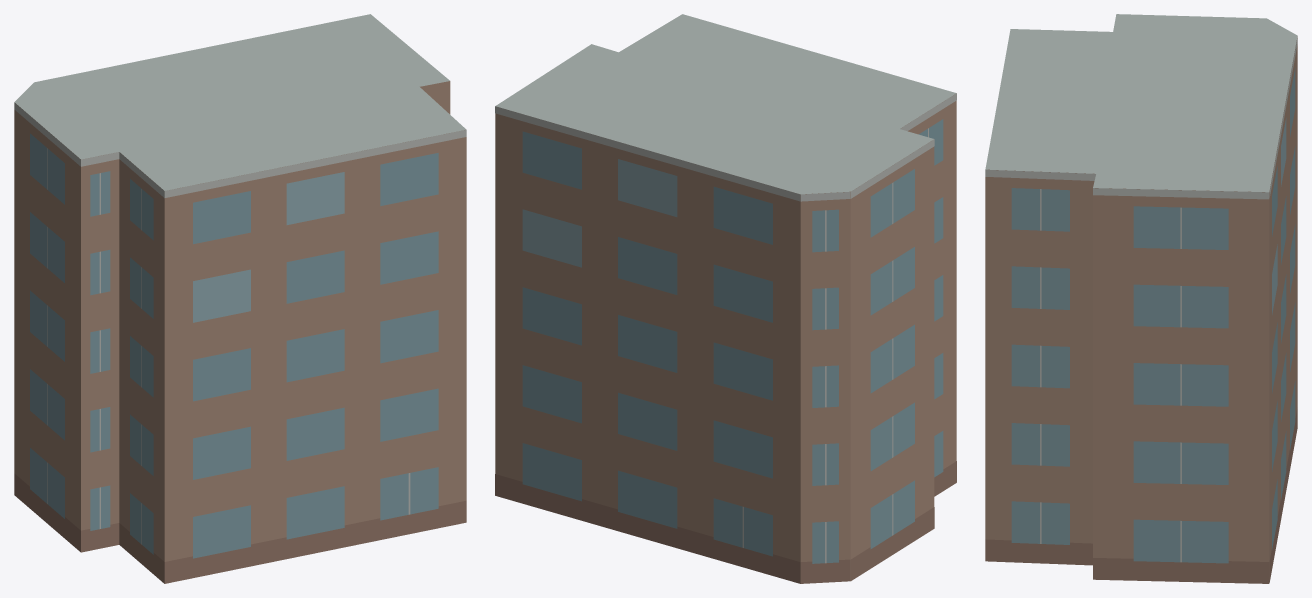
The model's file is survey-upis-33017475.glb.
3 renders of one model, left to right at view 1: azimuth 30°, elevation 25°; view 2: azimuth 150°, elevation 25°; view 3: azimuth 270°, elevation 25°, orthographic.
Parts seen in each view (by area): view 1: survey-upis-33017475.tmp; view 2: survey-upis-33017475.tmp; view 3: survey-upis-33017475.tmp.
Part boxes in pixels (x1,y1,x2,y2): survey-upis-33017475.tmp: [14, 14, 466, 583]; survey-upis-33017475.tmp: [495, 14, 956, 583]; survey-upis-33017475.tmp: [985, 14, 1297, 583].
Size of the model in its own units: 12.91 by 13.22 by 9.56.
